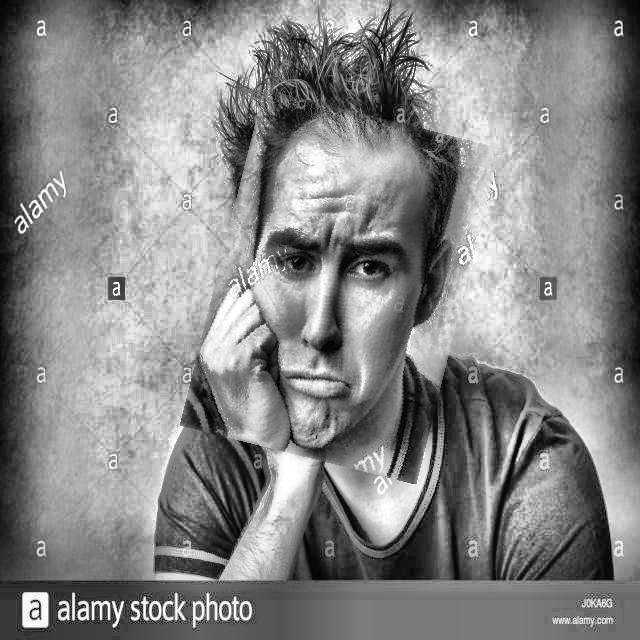sad: (199, 101, 481, 472)
